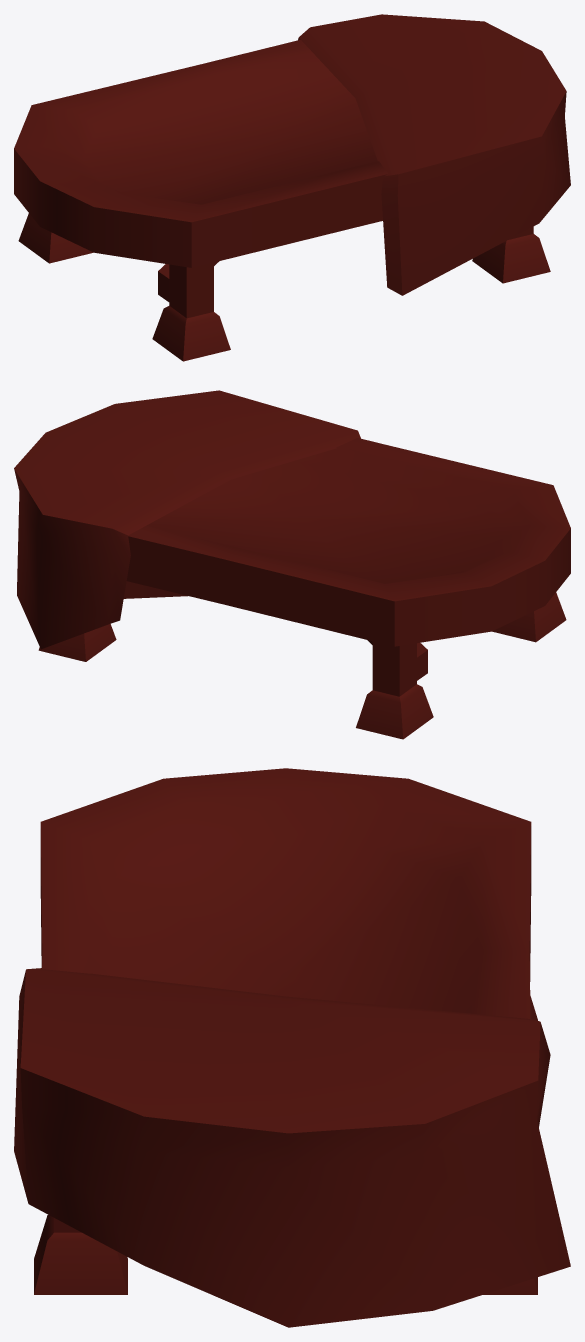
The model's file is SM_CoffeeTable_A.fbx.
3 views of the same model, one above another, from view 1: azimuth 30°, elevation 25°; view 2: azimuth 150°, elevation 25°; view 3: azimuth 270°, elevation 25° (orthographic). The views are drawn at different scales.
Parts seen in each view (by area): view 1: SM_CoffeeTable_A; view 2: SM_CoffeeTable_A; view 3: SM_CoffeeTable_A.
Part boxes in pixels (x1=…): SM_CoffeeTable_A: x1=14, y1=14, x2=570, y2=361; SM_CoffeeTable_A: x1=14, y1=390, x2=570, y2=739; SM_CoffeeTable_A: x1=14, y1=768, x2=570, y2=1327.
Size of the model in its own units: 209 by 56.85 by 130.
